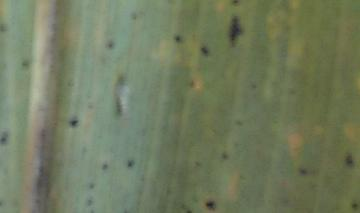tarspot: (229, 15, 243, 47), (206, 200, 215, 209), (346, 155, 353, 165), (200, 47, 208, 55), (70, 119, 78, 127), (21, 60, 29, 67), (300, 169, 307, 176), (1, 136, 7, 144), (235, 121, 243, 127), (102, 163, 108, 170), (222, 153, 228, 160), (175, 35, 180, 42), (128, 160, 133, 167), (88, 198, 92, 206), (352, 202, 357, 208), (107, 43, 113, 48), (132, 14, 137, 20), (232, 1, 239, 5), (90, 184, 94, 190), (186, 209, 191, 213)
